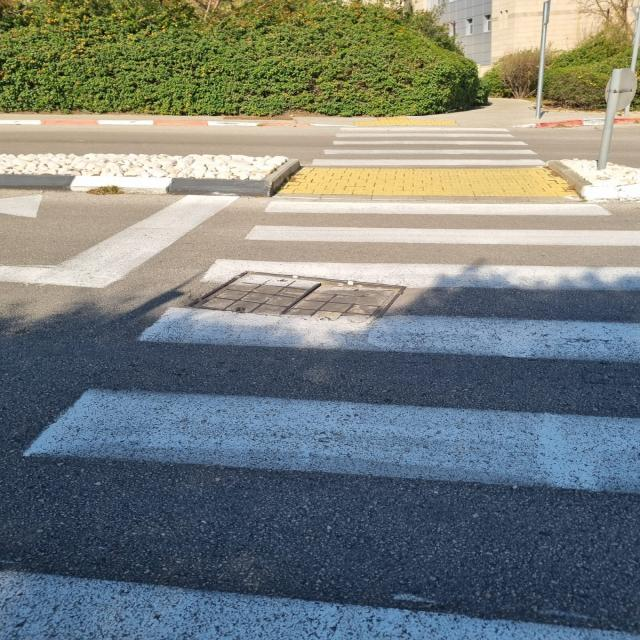medium_pothole: (181, 266, 407, 322)
